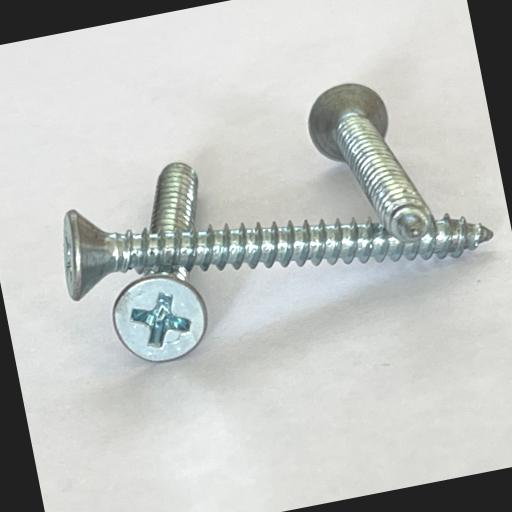Phillips: (103, 264, 218, 377)
